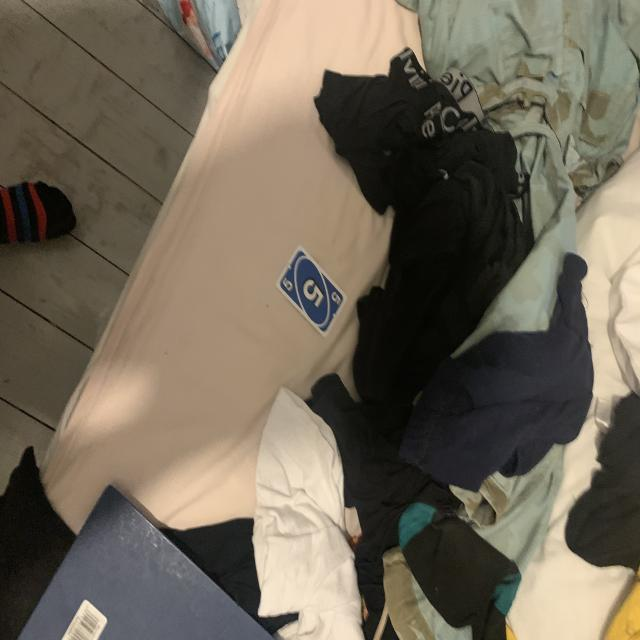lblue-5: (280, 276, 295, 292)
